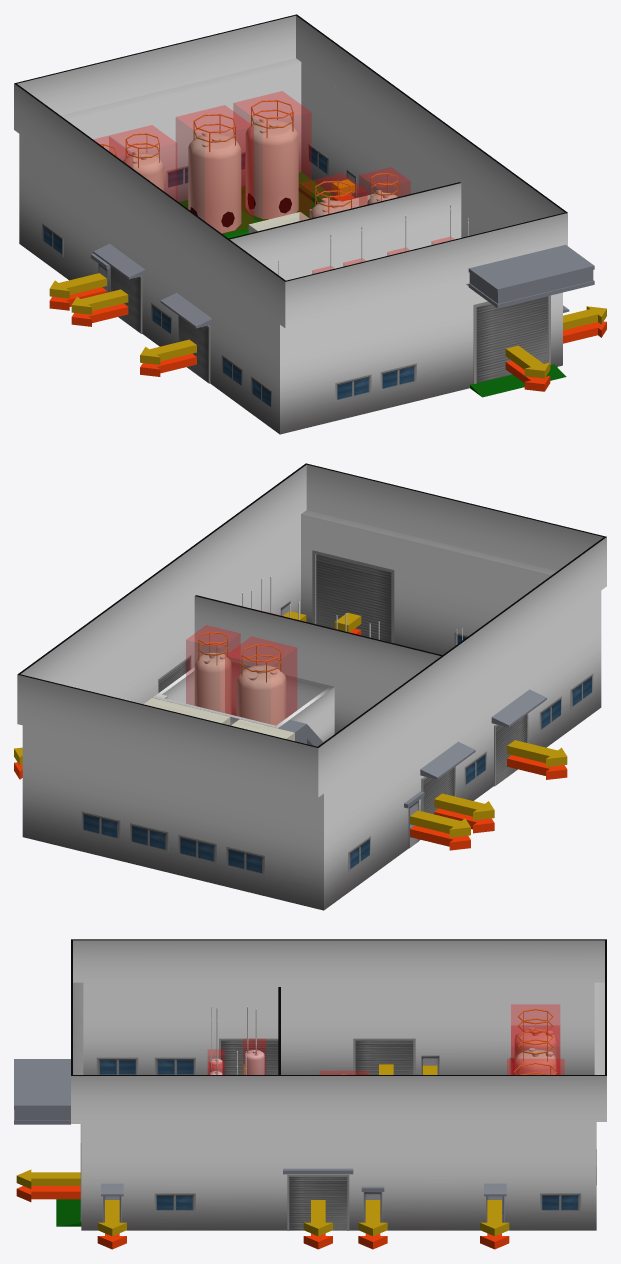
Rendered from soubrain_T1-6-1F.glb.
3 renders of one model, top to bottom at view 1: azimuth 30°, elevation 25°; view 2: azimuth 150°, elevation 25°; view 3: azimuth 270°, elevation 25°, orthographic. The views are drawn at different scales.
Visible parts, largest first — view 1: Box1114, Box2082, Box1135, equipment-T1-6-1F-012, equipment-T1-6-1F-011, Plane008, T1-6-1F, equipment-T1-6-1F-013, Plane016, equipment-T1-6-1F-010, Box623 (1), equipment-T1-6-1F-009 (+9 smaller); view 2: Box1114, Box1135, Plane008, T1-6-1F, equipment-T1-6-1F-010, Box2082, equipment-T1-6-1F-009, Box623 (1), arrow_Y_4_T1-6-1F, arrow_Y_3_T1-6-1F, arrow_Y_2_T1-6-1F, arrow_R_4_T1-6-1F (+1 smaller); view 3: Box1114, Plane008, T1-6-1F, equipment-T1-6-1F-013, Box2082, equipment-T1-6-1F-014, ChamferCyl164, equipment-T1-6-1F-012, arrow_Y_1_T1-6-1F, arrow_R_1_T1-6-1F, equipment-T1-6-1F-006, Plane016 (+6 smaller).
Boxes of the visible parts, x1,y1,x2,y2 form: Box1114: [14, 14, 594, 434]; Box2082: [99, 100, 398, 233]; Box1135: [228, 182, 461, 280]; equipment-T1-6-1F-012: [176, 105, 253, 233]; equipment-T1-6-1F-011: [233, 91, 311, 221]; Plane008: [111, 266, 547, 382]; T1-6-1F: [42, 143, 550, 409]; equipment-T1-6-1F-013: [109, 125, 176, 200]; Plane016: [179, 172, 566, 397]; equipment-T1-6-1F-010: [299, 173, 367, 220]; Box623 (1): [93, 243, 212, 328]; equipment-T1-6-1F-009: [359, 167, 410, 205]; Box1114: [17, 463, 606, 910]; Box1135: [144, 595, 442, 746]; Plane008: [159, 554, 527, 814]; T1-6-1F: [81, 550, 593, 875]; equipment-T1-6-1F-010: [225, 636, 296, 725]; Box2082: [194, 631, 286, 725]; equipment-T1-6-1F-009: [186, 625, 240, 715]; Box623 (1): [420, 689, 546, 779]; arrow_Y_4_T1-6-1F: [410, 810, 470, 837]; arrow_Y_3_T1-6-1F: [434, 793, 494, 820]; arrow_Y_2_T1-6-1F: [507, 740, 567, 766]; arrow_R_4_T1-6-1F: [410, 825, 470, 850]; Box1114: [14, 939, 606, 1230]; Plane008: [221, 1040, 413, 1230]; T1-6-1F: [80, 1038, 596, 1230]; equipment-T1-6-1F-013: [511, 1026, 559, 1074]; Box2082: [341, 1009, 557, 1074]; equipment-T1-6-1F-014: [511, 1004, 559, 1058]; ChamferCyl164: [209, 1006, 264, 1074]; equipment-T1-6-1F-012: [507, 1059, 564, 1074]; arrow_Y_1_T1-6-1F: [16, 1169, 80, 1188]; arrow_R_1_T1-6-1F: [16, 1186, 80, 1201]; equipment-T1-6-1F-006: [243, 1039, 265, 1074]; Plane016: [56, 1199, 81, 1226].
Size of the model in its own units: 21.87 by 8.25 by 28.65.
Materials: 14 (10 with a texture image).
